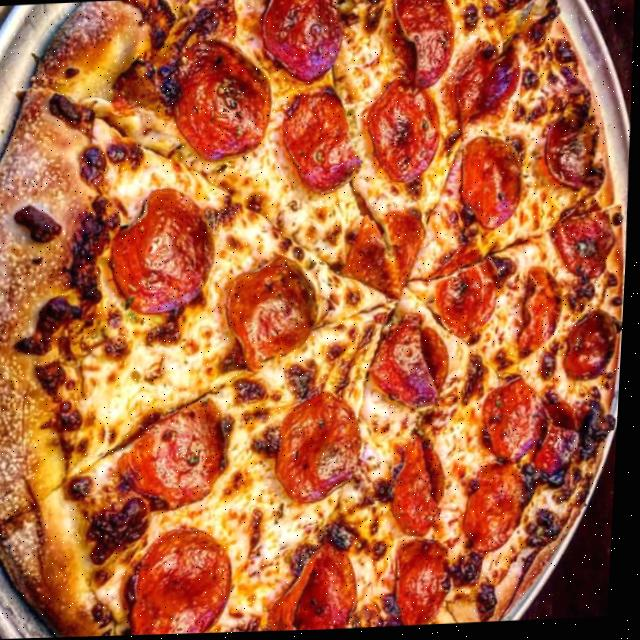pepperoni: (164, 31, 279, 167), (107, 187, 227, 317), (118, 389, 235, 517), (131, 525, 247, 636), (225, 254, 330, 374), (274, 393, 371, 512), (276, 82, 368, 201), (266, 531, 373, 633), (335, 205, 440, 303), (361, 76, 447, 191), (368, 308, 459, 416), (463, 447, 545, 564), (441, 32, 527, 134), (251, 0, 349, 89), (429, 245, 507, 340), (480, 374, 556, 471), (456, 138, 530, 236), (391, 432, 457, 541), (383, 0, 461, 92), (394, 535, 471, 628), (535, 392, 606, 485), (511, 264, 571, 362), (550, 197, 616, 282), (542, 105, 599, 200), (563, 304, 624, 388)
pizza: (0, 0, 640, 640)
